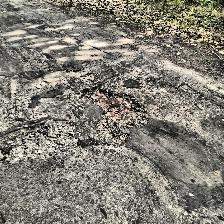pothole: (81, 86, 145, 128)
